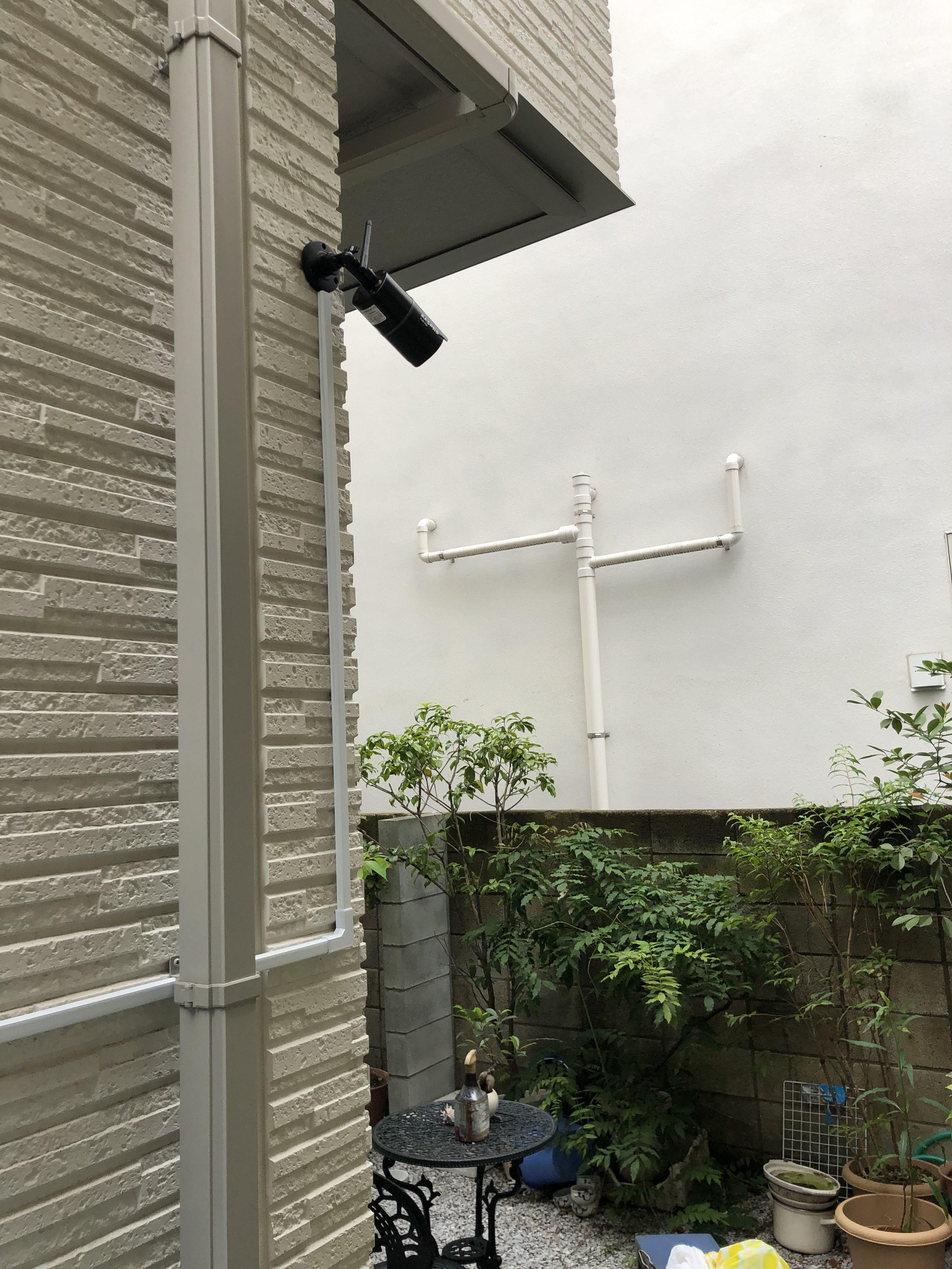tutu: (293, 220, 463, 387)
